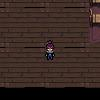Victim: (43, 38, 56, 61)
